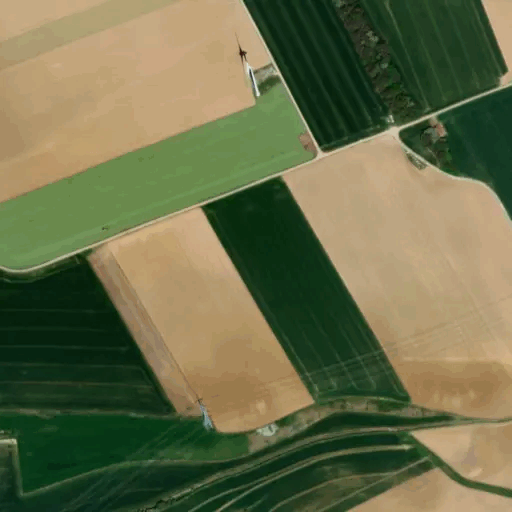wt: (235, 36, 266, 103)
